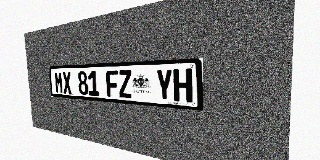1: (87, 71, 99, 96)
8: (78, 71, 89, 95)
F: (106, 70, 119, 97)
H: (173, 68, 192, 103)
M: (54, 72, 64, 93)
X: (62, 72, 72, 94)
Y: (156, 69, 173, 101)
Z: (118, 70, 132, 98)
